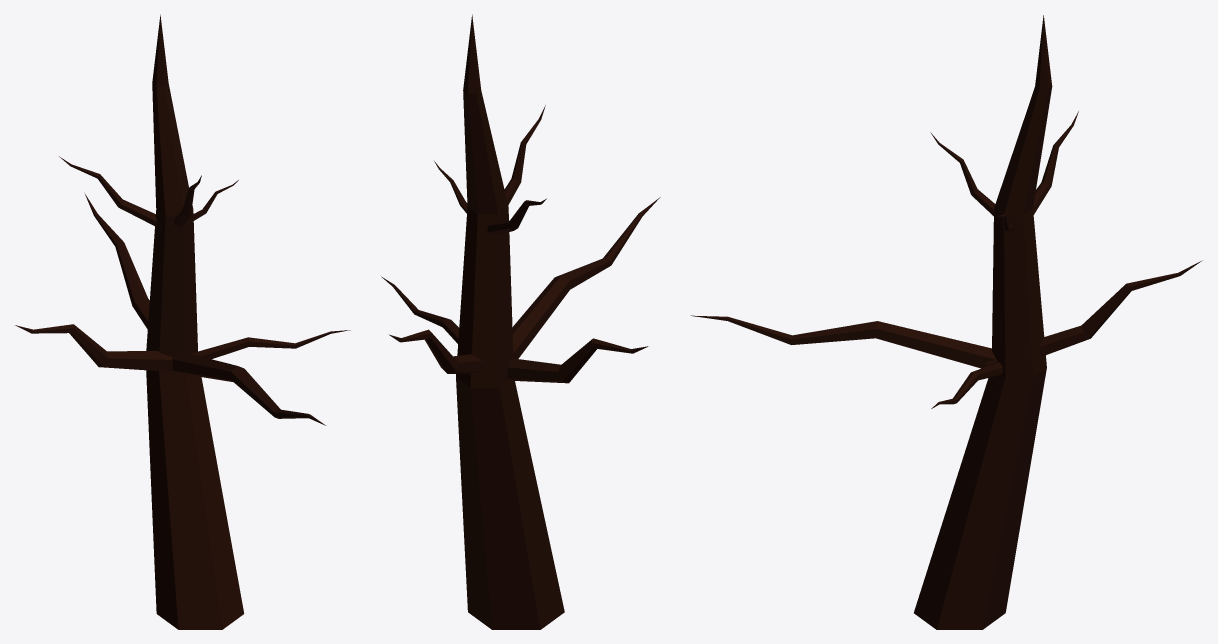
File: Turret Game Dead Tree 001.fbx
3 renders of one model, left to right at view 1: azimuth 30°, elevation 25°; view 2: azimuth 150°, elevation 25°; view 3: azimuth 270°, elevation 25°, orthographic. The views are drawn at different scales.
Visible parts, largest first — view 1: Cylinder; view 2: Cylinder; view 3: Cylinder.
Boxes of the visible parts, box(x1,y1,x2,y2) form: Cylinder: box(15, 14, 350, 629); Cylinder: box(381, 14, 660, 629); Cylinder: box(690, 15, 1202, 629).
Bounding box in the file's own units: 766 × 1436 × 1117.
